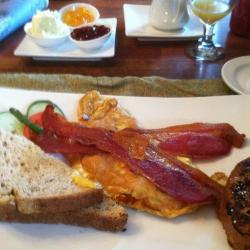bread: (1, 128, 125, 234)
ketchup: (70, 22, 110, 49)
omelette: (72, 99, 219, 216)
